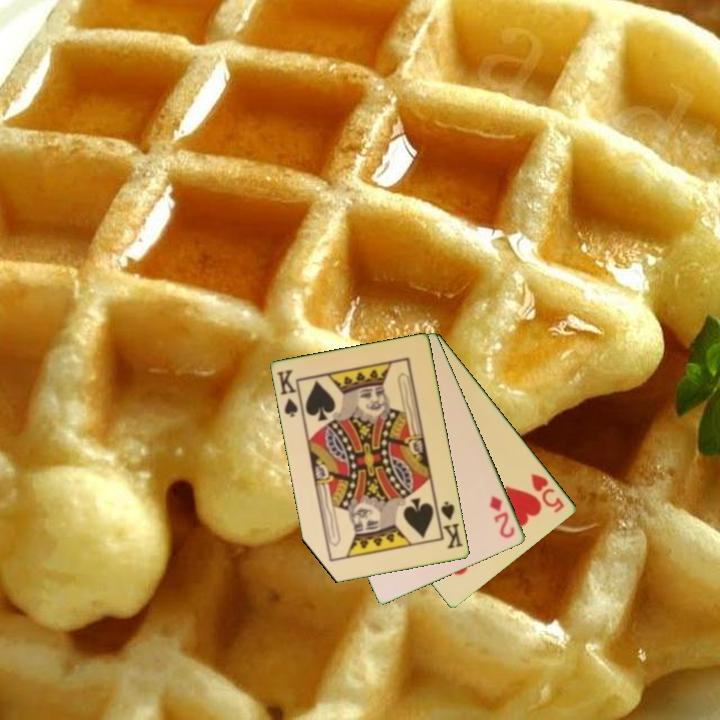2d: (486, 492, 518, 541)
5h: (527, 470, 567, 516)
Ks: (433, 498, 466, 552), (273, 366, 306, 420)
